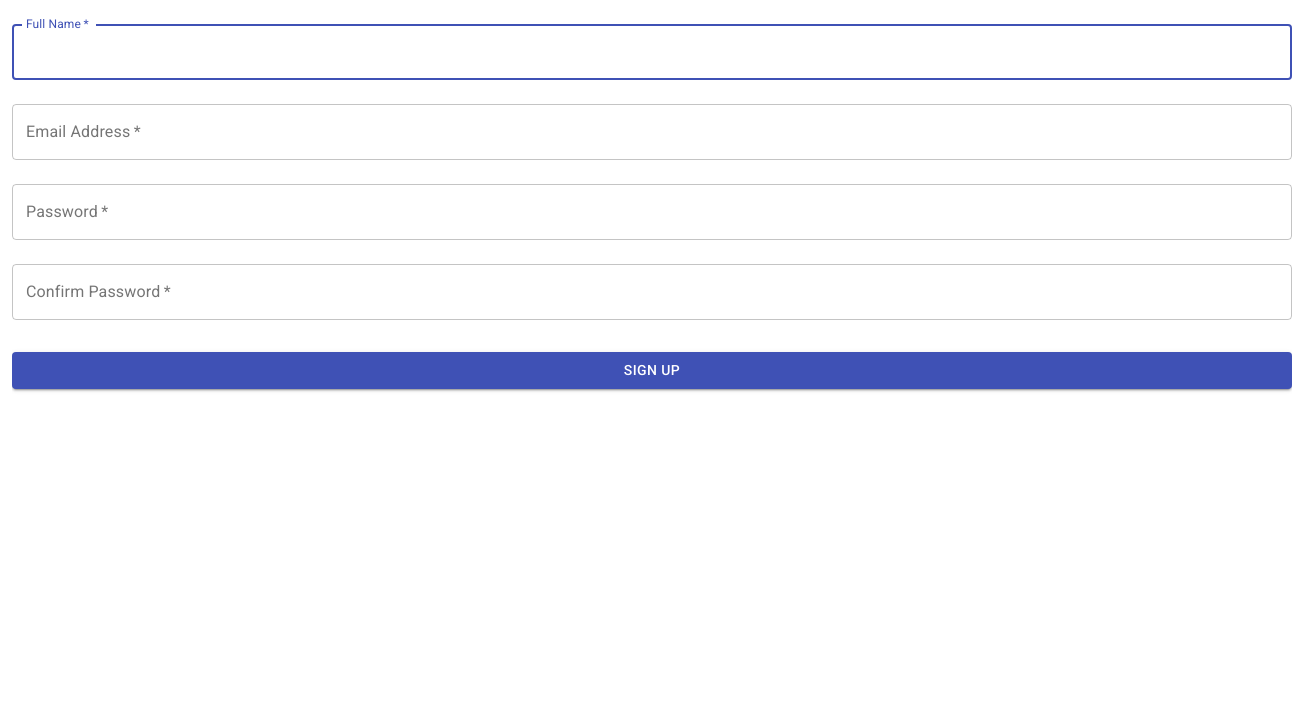
Test case: Should find error messsage Passwords don't match
Type "test" into the field with id "name" at [652, 52], box [12,24,1292,80]
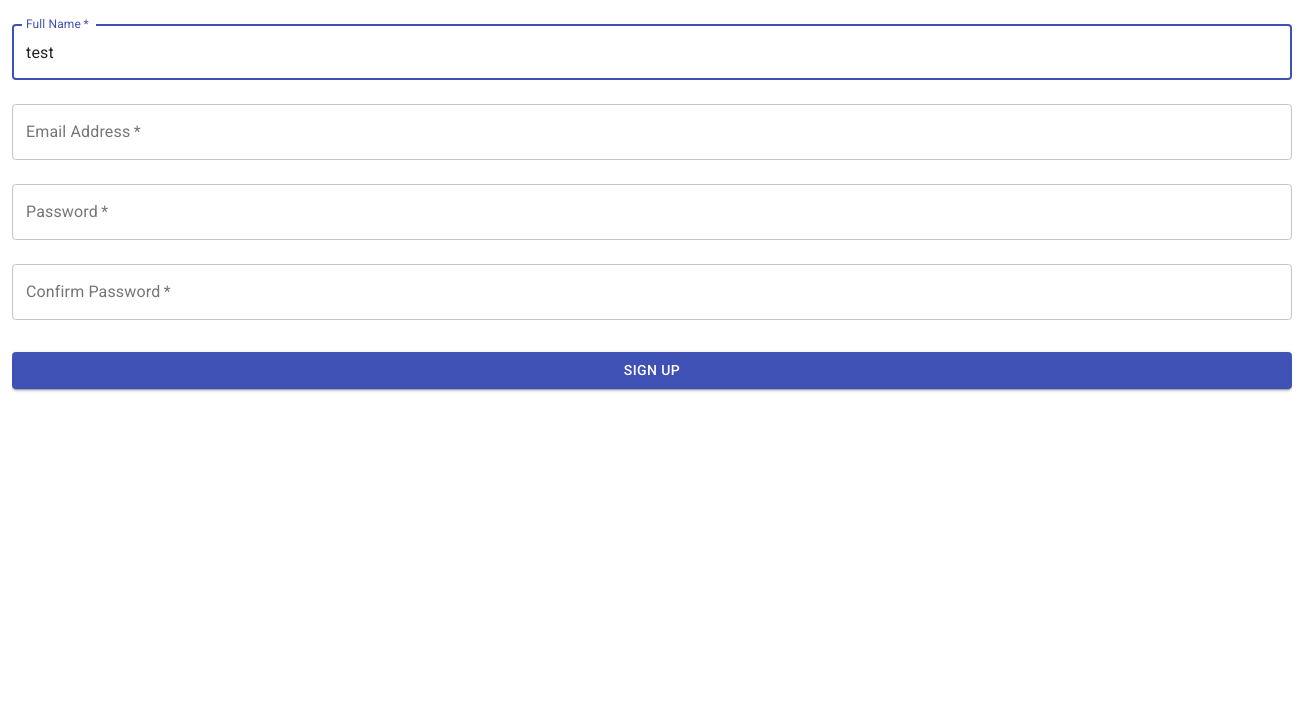
Type "email@email.com" into the field with id "email" at [652, 132], box [12,104,1292,160]
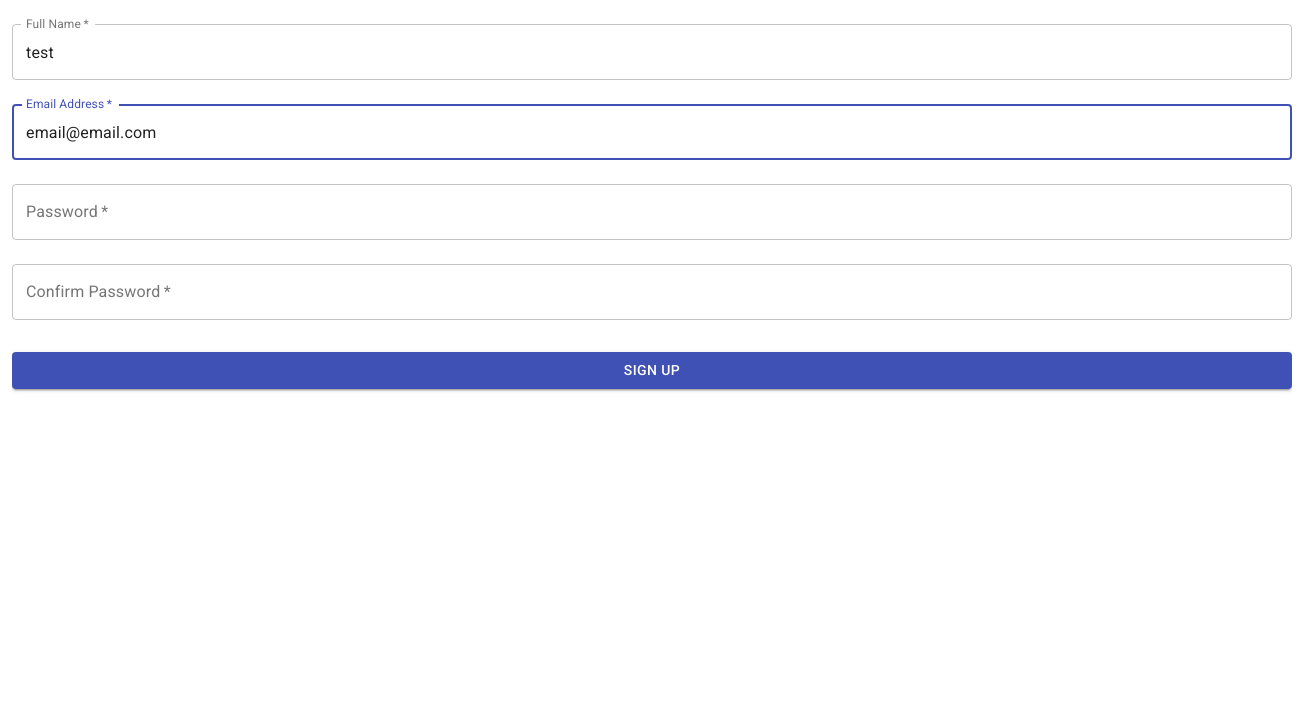
Type "123" into the password field labelled "Password *" at [652, 212], box [12,184,1292,240]
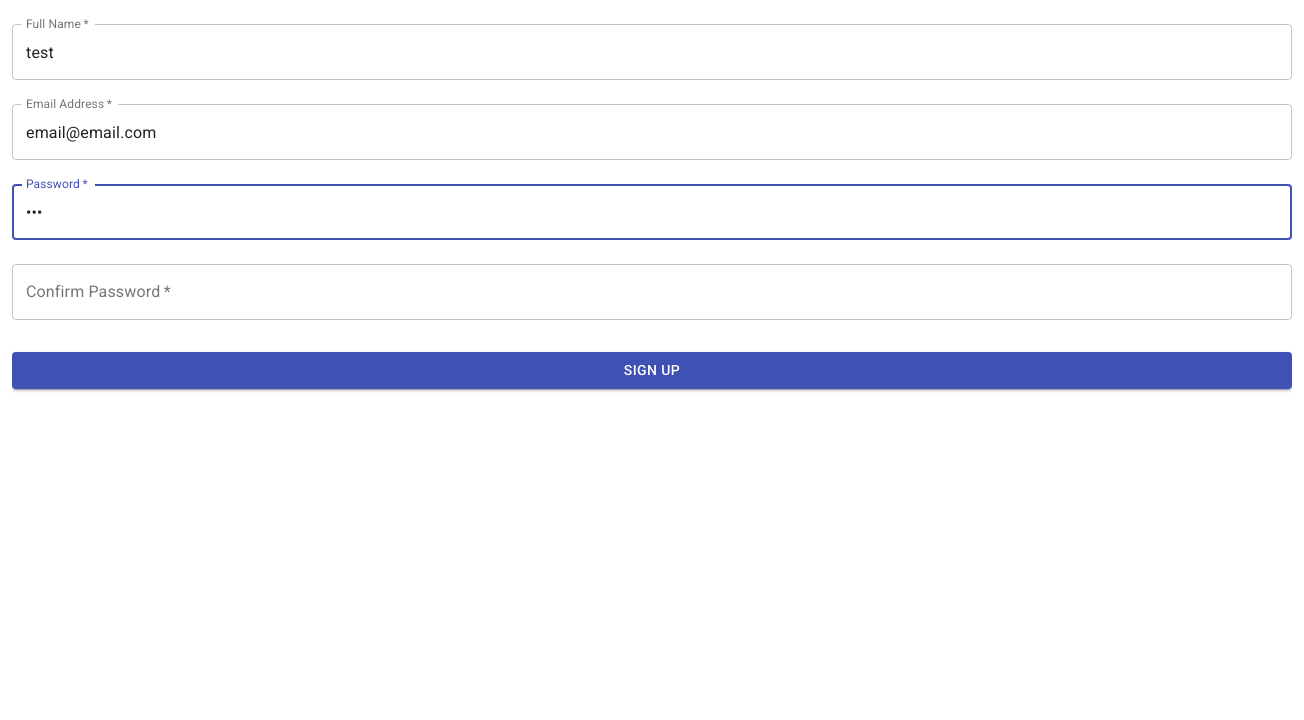
Type "232" into the password field with id "confirmPassword" at [652, 292], box [12,264,1292,320]
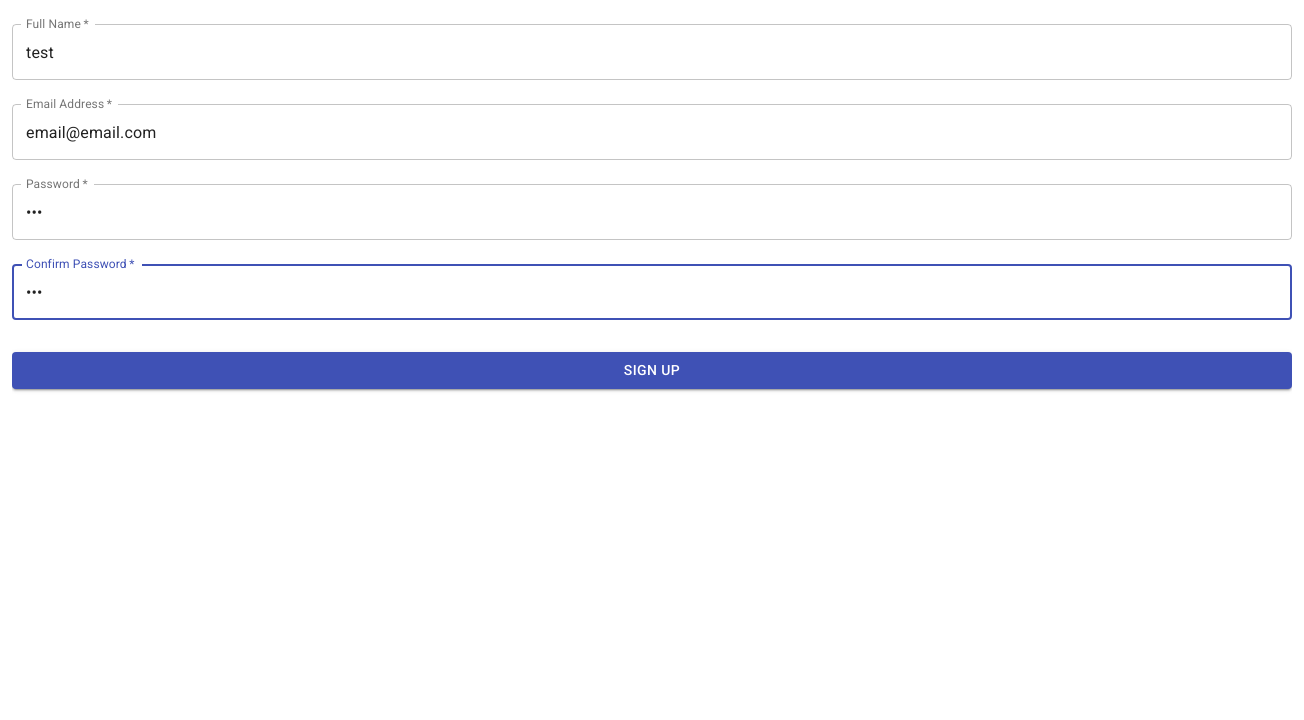
Click the submit button at [652, 370], box [12,352,1292,388]
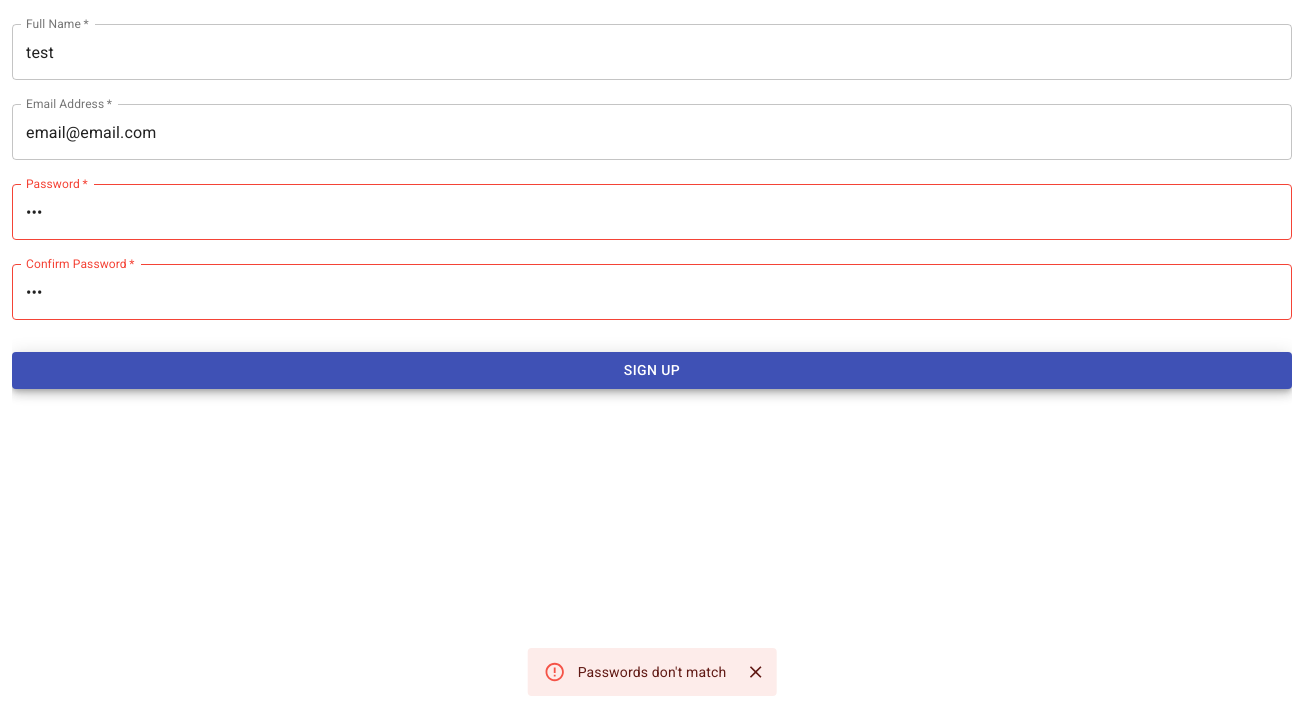
expect the text "Passwords don't match" is shown: met, box [578,664,726,680]
